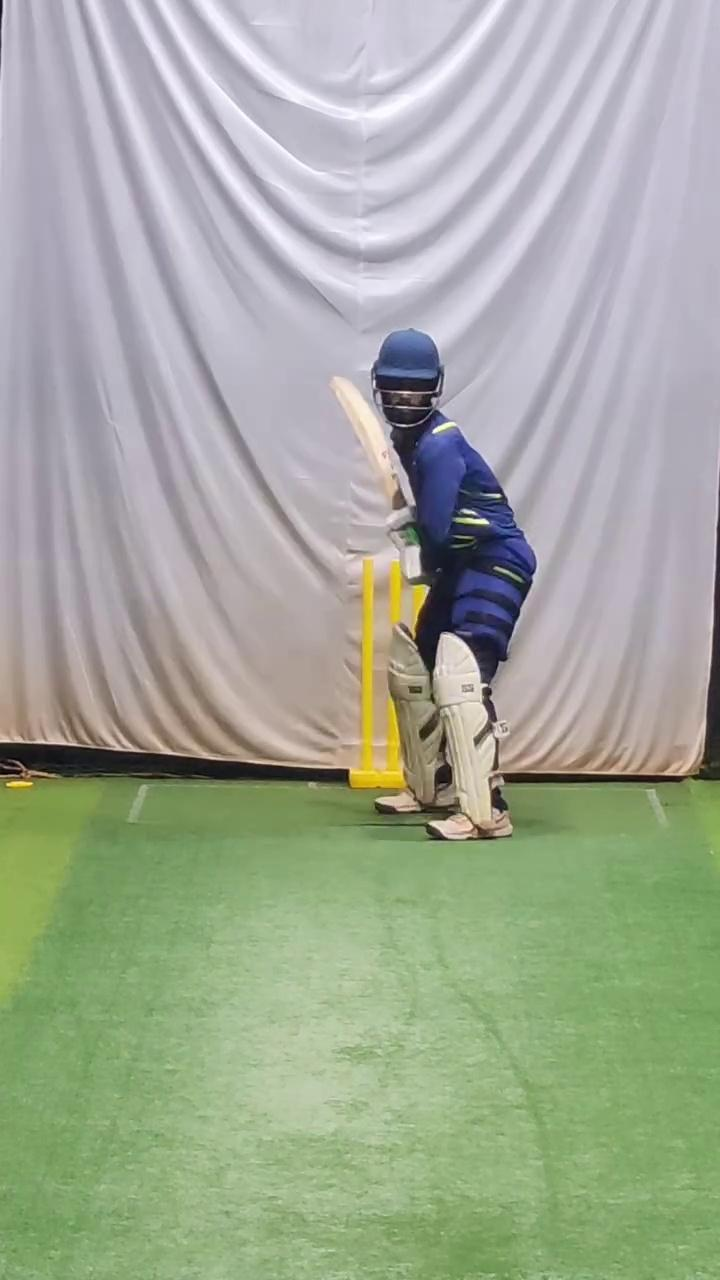bat: (321, 364, 413, 519)
